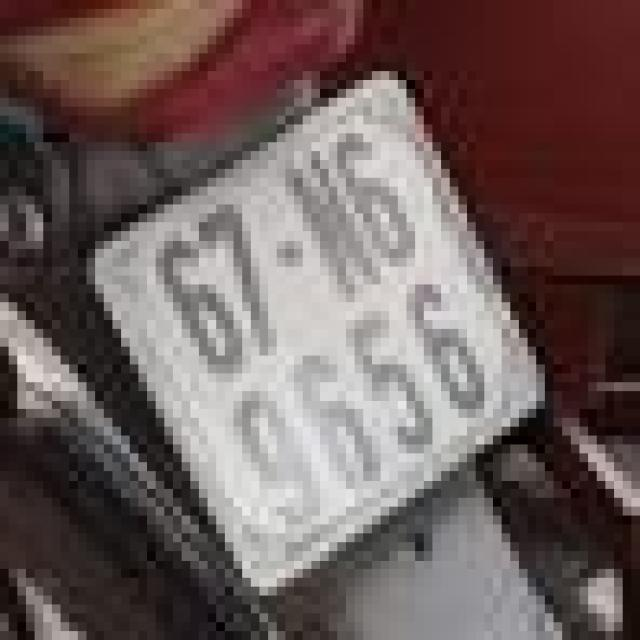5: (336, 301, 453, 466)
6: (272, 334, 401, 502), (142, 216, 262, 389), (318, 111, 431, 277), (396, 276, 510, 432)
7: (183, 184, 303, 360)
9: (216, 370, 337, 542)
N: (267, 132, 392, 319)
